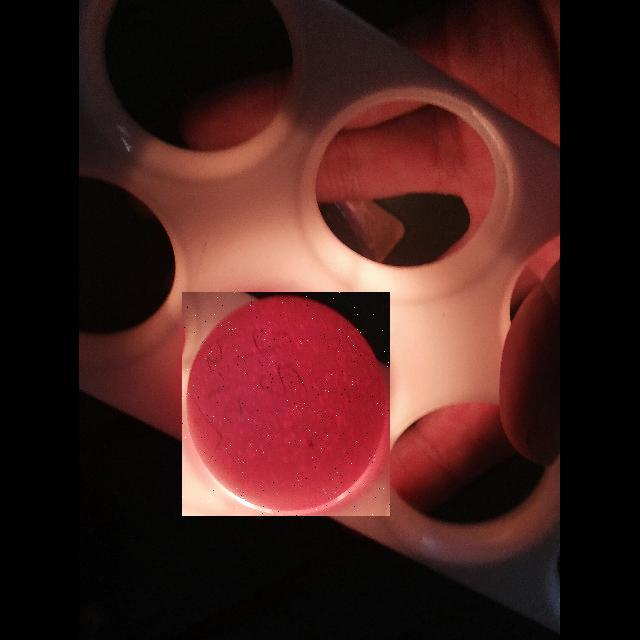Infertile: (182, 292, 390, 516)
